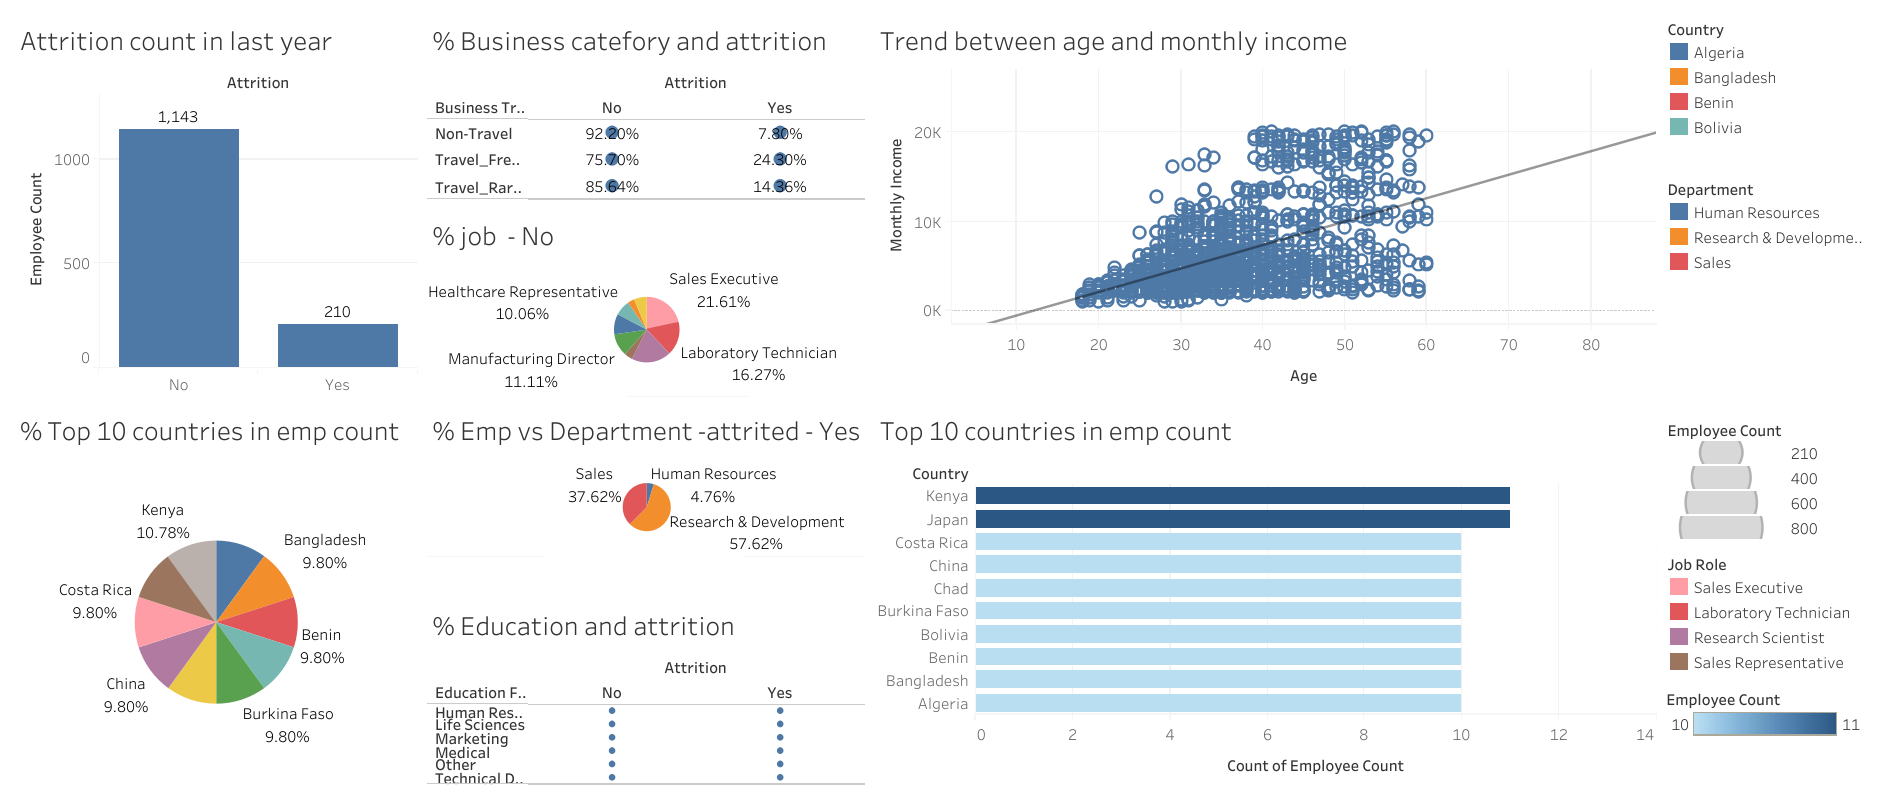

The dashboard page shown, as its layout file describes it:
{"tool":"tableau","page":{"name":"Dashboard 1","canvas":[1000,1000],"units":"permille","ordinal":0},"visuals":[{"type":"worksheet","title":"Attrition count in last year","mark":"Automatic","rows":["EmployeeCount"],"cols":["Attrition"],"box":[4.2,7.4,226,492.6]},{"type":"worksheet","title":"% Business catefory and attrition","mark":"Pie","rows":["BusinessTravel"],"cols":["Attrition"],"box":[230.2,7.4,244.7,246.3]},{"type":"worksheet","title":"Trend between age and monthly income","mark":"Automatic","rows":["MonthlyIncome"],"cols":["Age"],"box":[474.9,7.4,433.4,492.6]},{"type":"legend","title":"% Top 10 countries in emp count","param":"[federated.0bl9pqk0nef4e5178h9r207m50le].[none:Country:nk]","box":[908.3,7.4,87.5,222.2]},{"type":"legend","title":"% Business catefory and attrition","param":"[federated.0bl9pqk0nef4e5178h9r207m50le].[none:BusinessTravel:nk]","box":[908.3,229.6,87.5,22.2]},{"type":"legend","title":"% Emp vs Department -attrited","param":"[federated.0bl9pqk0nef4e5178h9r207m50le].[none:Department:nk]","box":[908.3,251.8,87.5,86.1]},{"type":"worksheet","title":"% job ","mark":"Pie","box":[230.2,253.7,244.7,246.3]},{"type":"currpage","title":"% Business catefory and attrition","box":[908.3,338,87.5,110.2]},{"type":"legend","title":"% job ","param":"[federated.0bl9pqk0nef4e5178h9r207m50le].[sum:EmployeeCount:qk]","box":[908.3,448.2,87.5,144.5]},{"type":"worksheet","title":"% Top 10 countries in emp count","mark":"Pie","box":[4.2,500,226,492.6]},{"type":"worksheet","title":"% Emp vs Department -attrited","mark":"Pie","box":[230.2,500,244.8,246.3]},{"type":"worksheet","title":"Top 10 countries in emp count","mark":"Automatic","rows":["Country"],"cols":["EmployeeCount"],"box":[475,500,433.3,492.6]},{"type":"legend","title":"% job ","param":"[federated.0bl9pqk0nef4e5178h9r207m50le].[none:JobRole:nk]","box":[908.3,592.6,87.5,202.8]},{"type":"worksheet","title":"% Education and attrition","mark":"Pie","rows":["EducationField"],"cols":["Attrition"],"box":[230.2,746.3,244.8,246.3]},{"type":"legend","title":"Top 10 countries in emp count","param":"[federated.0bl9pqk0nef4e5178h9r207m50le].[sum:EmployeeCount:qk]","box":[908.3,795.4,87.5,67.6]},{"type":"legend","title":"% Education and attrition","param":"[federated.0bl9pqk0nef4e5178h9r207m50le].[none:EducationField:nk]","box":[908.3,863,87.5,22.2]}]}

Visuals, with their boxes on the dashboard's canvas, which has no fixed pixel size, in thousandths of its width and height (x1, y1, x2, y2). These are canvas units, not pixel positions in the 1880x799 screenshot, which may show the page scaled, cropped or inside an application window:
"Attrition count in last year" worksheet: 4:7:230:500
"% Business catefory and attrition" worksheet (Pie marks): 230:7:475:254
"Trend between age and monthly income" worksheet: 475:7:908:500
"% Top 10 countries in emp count" legend: 908:7:996:230
"% Business catefory and attrition" legend: 908:230:996:252
"% Emp vs Department -attrited" legend: 908:252:996:338
"% job " worksheet (Pie marks): 230:254:475:500
"% Business catefory and attrition" currpage: 908:338:996:448
"% job " legend: 908:448:996:593
"% Top 10 countries in emp count" worksheet (Pie marks): 4:500:230:993
"% Emp vs Department -attrited" worksheet (Pie marks): 230:500:475:746
"Top 10 countries in emp count" worksheet: 475:500:908:993
"% job " legend: 908:593:996:795
"% Education and attrition" worksheet (Pie marks): 230:746:475:993
"Top 10 countries in emp count" legend: 908:795:996:863
"% Education and attrition" legend: 908:863:996:885
